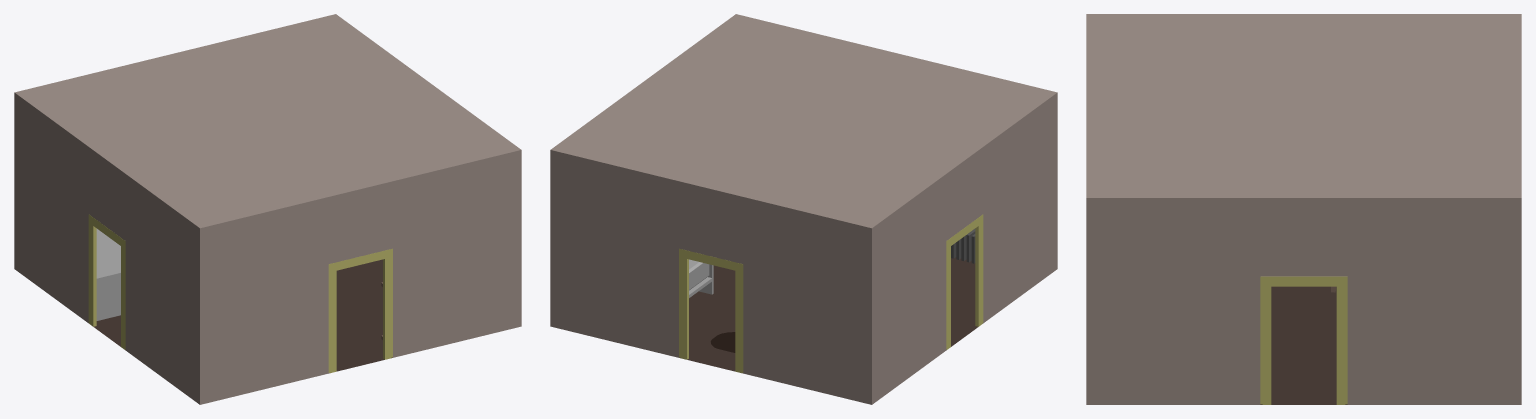
Rendered from Room39_ServantsQuarters.fbx.
3 renders of one model, left to right at view 1: azimuth 30°, elevation 25°; view 2: azimuth 150°, elevation 25°; view 3: azimuth 270°, elevation 25°, orthographic. The views are drawn at different scales.
Visible parts, largest first — view 1: Roof, WallSlicedPosZ, WallSlicedPosX, WallSlicedPosZ6, WallSlicedPosX19, Floor, DoorFramePosZ, DoorFramePosX, pCube57, pCube58, WallSlicedNegX, WallSlicedNegZ; view 2: Roof, WallSlicedNegZ, WallSlicedPosX, WallSlicedNegZ29, WallSlicedPosX19, Floor, DoorFrameNegZ, DoorFramePosX, heater, WallSlicedNegX, WallSlicedPosZ, pCube58; view 3: Roof, WallSlicedNegX, WallSlicedNegX6, Floor, DoorFrameNegX, WallSlicedPosZ, WallSlicedNegZ, WallSlicedPosX.
Boxes of the visible parts, left/top/right/bottom form: Roof: left=17, top=15, right=518, bottom=227; WallSlicedPosZ: left=199, top=149, right=521, bottom=364; WallSlicedPosX: left=14, top=92, right=201, bottom=363; WallSlicedPosZ6: left=199, top=286, right=521, bottom=404; WallSlicedPosX19: left=14, top=229, right=202, bottom=404; Floor: left=89, top=259, right=392, bottom=373; DoorFramePosZ: left=328, top=248, right=392, bottom=372; DoorFramePosX: left=88, top=214, right=125, bottom=349; pCube57: left=96, top=271, right=120, bottom=320; pCube58: left=96, top=228, right=120, bottom=276; WallSlicedNegX: left=335, top=14, right=521, bottom=286; WallSlicedNegZ: left=14, top=14, right=334, bottom=228; Roof: left=553, top=15, right=1054, bottom=227; WallSlicedNegZ: left=550, top=149, right=872, bottom=364; WallSlicedPosX: left=870, top=92, right=1056, bottom=363; WallSlicedNegZ29: left=550, top=286, right=872, bottom=404; WallSlicedPosX19: left=869, top=230, right=1057, bottom=404; Floor: left=679, top=257, right=982, bottom=373; DoorFrameNegZ: left=679, top=248, right=743, bottom=372; DoorFramePosX: left=946, top=214, right=983, bottom=349; heater: left=951, top=228, right=975, bottom=263; WallSlicedNegX: left=550, top=14, right=736, bottom=286; WallSlicedPosZ: left=736, top=14, right=1057, bottom=228; pCube58: left=689, top=259, right=709, bottom=290; Roof: left=1088, top=14, right=1519, bottom=197; WallSlicedNegX: left=1086, top=197, right=1521, bottom=357; WallSlicedNegX6: left=1086, top=357, right=1521, bottom=404; Floor: left=1260, top=286, right=1347, bottom=404; DoorFrameNegX: left=1260, top=276, right=1347, bottom=404; WallSlicedPosZ: left=1086, top=14, right=1087, bottom=357; WallSlicedNegZ: left=1520, top=14, right=1521, bottom=357; WallSlicedPosX: left=1088, top=14, right=1520, bottom=14.
Size of the model in its own units: 800 by 420 by 800.
